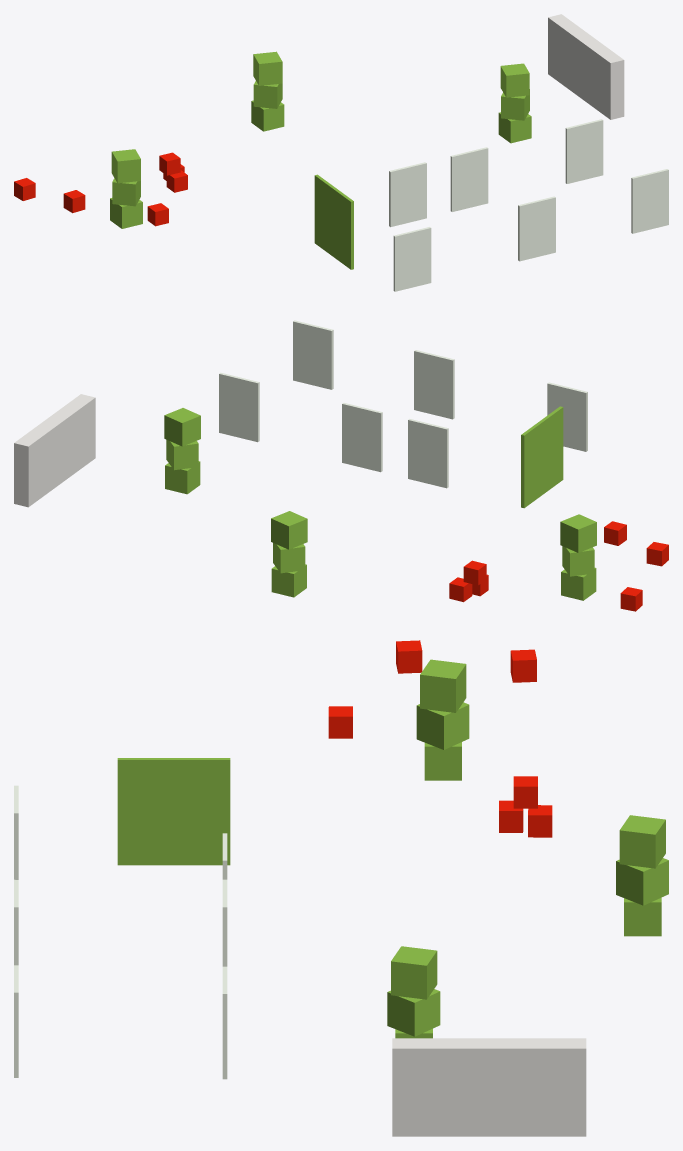
Rendered from Gruppo4_Allestimento.obj.
3 views of the same model, one above another, from view 1: azimuth 30°, elevation 25°; view 2: azimuth 150°, elevation 25°; view 3: azimuth 270°, elevation 25° (orthographic). The views are drawn at different scales.
Visible parts, largest first — view 1: Mesh2 Model, Mesh1 Model, Mesh5 Model, Mesh6 Model, Mesh8 Model, Mesh3 Model, Mesh7 Model, Mesh4 Model, Mesh15 Model, Mesh21 Model, Mesh18 Model, Mesh23 Model (+9 smaller); view 2: Mesh2 Model, Mesh1 Model, Mesh6 Model, Mesh3 Model, Mesh4 Model, Mesh7 Model, Mesh8 Model, Mesh5 Model, Mesh21 Model, Mesh15 Model, Mesh18 Model, Mesh20 Model (+10 smaller); view 3: Mesh2 Model, Mesh1 Model, Mesh21 Model, Mesh15 Model, Mesh18 Model, Mesh16 Model, Mesh19 Model, Mesh22 Model, Mesh23 Model, Mesh20 Model, Mesh12 Model, Mesh13 Model (+4 smaller).
Boxes of the visible parts, bbox=[...] form: Mesh2 Model: bbox=[548, 14, 624, 119]; Mesh1 Model: bbox=[314, 174, 353, 269]; Mesh5 Model: bbox=[393, 227, 431, 291]; Mesh6 Model: bbox=[565, 119, 603, 183]; Mesh8 Model: bbox=[450, 147, 488, 211]; Mesh3 Model: bbox=[518, 196, 555, 261]; Mesh7 Model: bbox=[389, 162, 426, 227]; Mesh4 Model: bbox=[631, 169, 668, 233]; Mesh15 Model: bbox=[500, 63, 529, 97]; Mesh21 Model: bbox=[253, 51, 282, 85]; Mesh18 Model: bbox=[111, 149, 140, 183]; Mesh23 Model: bbox=[251, 100, 284, 131]; Mesh2 Model: bbox=[14, 394, 95, 507]; Mesh1 Model: bbox=[521, 406, 563, 508]; Mesh6 Model: bbox=[219, 372, 259, 442]; Mesh3 Model: bbox=[414, 350, 454, 419]; Mesh4 Model: bbox=[293, 320, 333, 389]; Mesh7 Model: bbox=[408, 419, 448, 488]; Mesh8 Model: bbox=[342, 403, 382, 472]; Mesh5 Model: bbox=[547, 382, 587, 451]; Mesh21 Model: bbox=[271, 511, 307, 549]; Mesh15 Model: bbox=[164, 408, 200, 446]; Mesh18 Model: bbox=[560, 514, 596, 552]; Mesh20 Model: bbox=[561, 567, 596, 600]; Mesh2 Model: bbox=[392, 1038, 586, 1136]; Mesh1 Model: bbox=[117, 758, 230, 865]; Mesh21 Model: bbox=[619, 815, 665, 868]; Mesh15 Model: bbox=[391, 946, 437, 999]; Mesh18 Model: bbox=[420, 659, 466, 712]; Mesh16 Model: bbox=[387, 989, 440, 1036]; Mesh19 Model: bbox=[416, 702, 469, 749]; Mesh22 Model: bbox=[616, 858, 668, 905]; Mesh23 Model: bbox=[624, 897, 661, 936]; Mesh20 Model: bbox=[424, 742, 461, 780]; Mesh12 Model: bbox=[396, 640, 422, 673]; Mesh13 Model: bbox=[510, 649, 536, 682].
Size of the model in its own units: 12.66 by 1.46 by 8.22.
